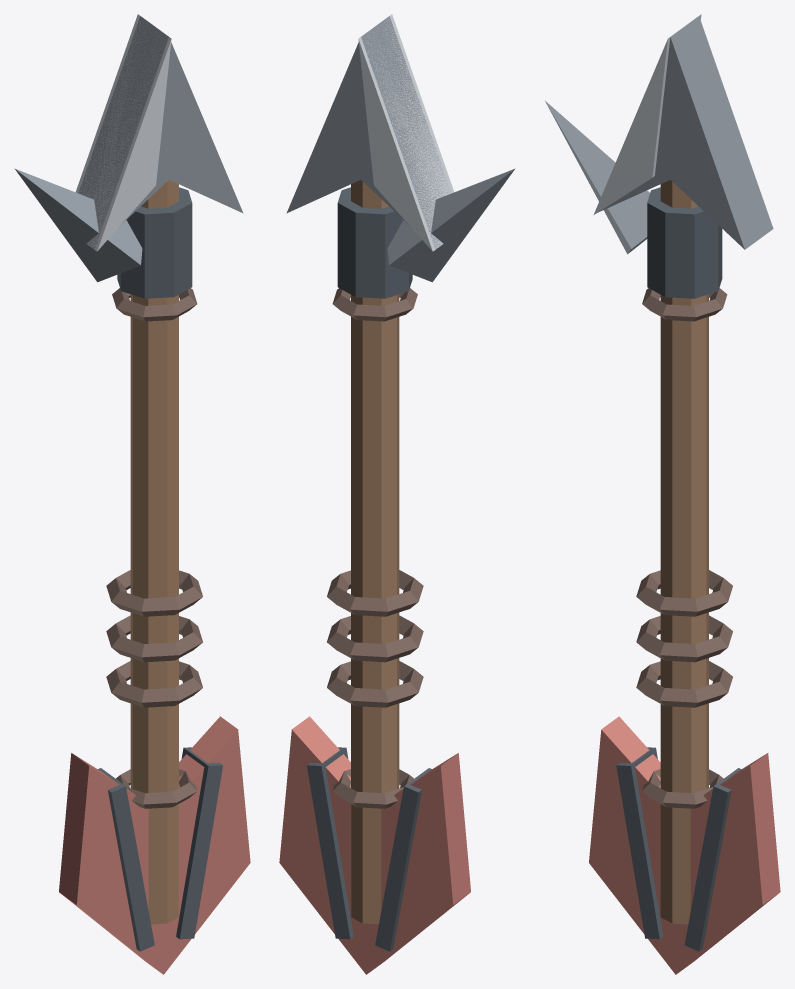
File: bandit_archer_shot.glb
3 renders of one model, left to right at view 1: azimuth 30°, elevation 25°; view 2: azimuth 150°, elevation 25°; view 3: azimuth 330°, elevation 25°, orthographic.
Parts seen in each view (by area): view 1: Shaft.006, ForgedArrowhead.006, Fletching_-1.006, Fletching_1.006, HeadEdgeLeft.006, HeadCollar.006, CruelBarb, FletchingRib_1.006, FletchingRib_-1.006, RopeBinding_2, RopeBinding_0, RopeBinding_1 (+2 smaller); view 2: Shaft.006, ForgedArrowhead.006, Fletching_-1.006, HeadEdgeLeft.006, Fletching_1.006, HeadCollar.006, CruelBarb, FletchingRib_1.006, FletchingRib_-1.006, RopeBinding_2, RopeBinding_0, RopeBinding_1 (+2 smaller); view 3: Shaft.006, ForgedArrowhead.006, Fletching_1.006, Fletching_-1.006, HeadCollar.006, HeadEdgeLeft.006, CruelBarb, FletchingRib_-1.006, FletchingRib_1.006, RopeBinding_1, RopeBinding_2, RopeBinding_0 (+2 smaller).
Part boxes in pixels (box(x1,y1,x2,y2)): Shaft.006: box(130, 180, 178, 924); ForgedArrowhead.006: box(78, 16, 243, 249); Fletching_-1.006: box(59, 753, 163, 974); Fletching_1.006: box(163, 716, 250, 974); HeadEdgeLeft.006: box(76, 14, 171, 251); HeadCollar.006: box(117, 187, 192, 298); CruelBarb: box(14, 168, 142, 282); FletchingRib_1.006: box(176, 747, 222, 939); FletchingRib_-1.006: box(98, 768, 154, 951); RopeBinding_2: box(106, 570, 202, 616); RopeBinding_0: box(106, 661, 202, 707); RopeBinding_1: box(106, 615, 202, 662); Shaft.006: box(351, 180, 399, 924); ForgedArrowhead.006: box(286, 16, 450, 248); Fletching_-1.006: box(366, 753, 470, 974); HeadEdgeLeft.006: box(358, 14, 453, 251); Fletching_1.006: box(279, 716, 366, 974); HeadCollar.006: box(337, 187, 412, 298); CruelBarb: box(387, 168, 515, 282); FletchingRib_1.006: box(307, 747, 353, 939); FletchingRib_-1.006: box(375, 768, 431, 951); RopeBinding_2: box(327, 570, 423, 616); RopeBinding_0: box(327, 661, 423, 707); RopeBinding_1: box(327, 615, 423, 662); Shaft.006: box(660, 180, 708, 924); ForgedArrowhead.006: box(598, 16, 773, 249); Fletching_1.006: box(675, 753, 780, 974); Fletching_-1.006: box(589, 716, 675, 974); HeadCollar.006: box(647, 187, 722, 298); HeadEdgeLeft.006: box(593, 14, 701, 214); CruelBarb: box(545, 101, 649, 254); FletchingRib_-1.006: box(616, 747, 663, 939); FletchingRib_1.006: box(684, 768, 741, 951); RopeBinding_1: box(636, 615, 732, 662); RopeBinding_2: box(636, 570, 732, 616); RopeBinding_0: box(636, 661, 732, 707).
Bounding box in the file's own units: 0.3661 × 1.45 × 0.14.
